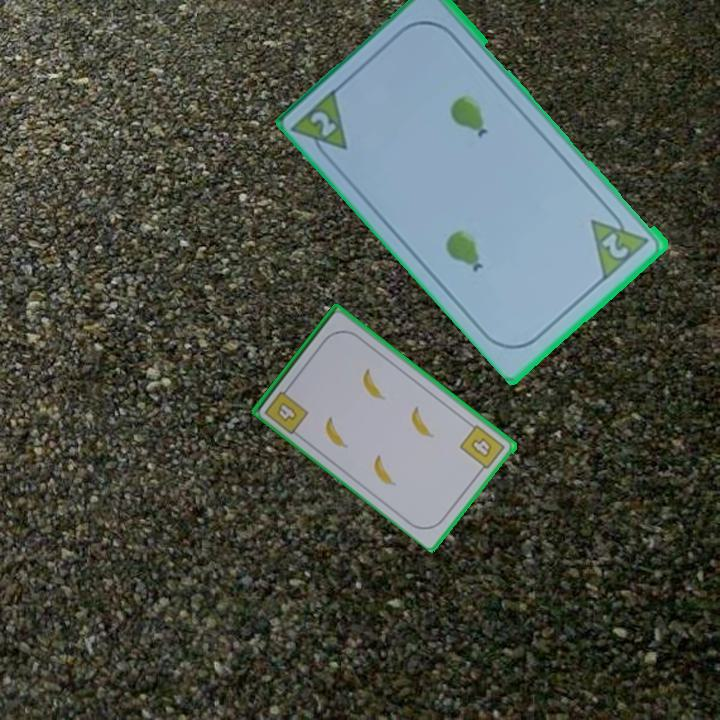2p: (598, 229, 632, 262), (307, 107, 340, 140)
4b: (457, 421, 508, 476), (273, 398, 301, 425)
